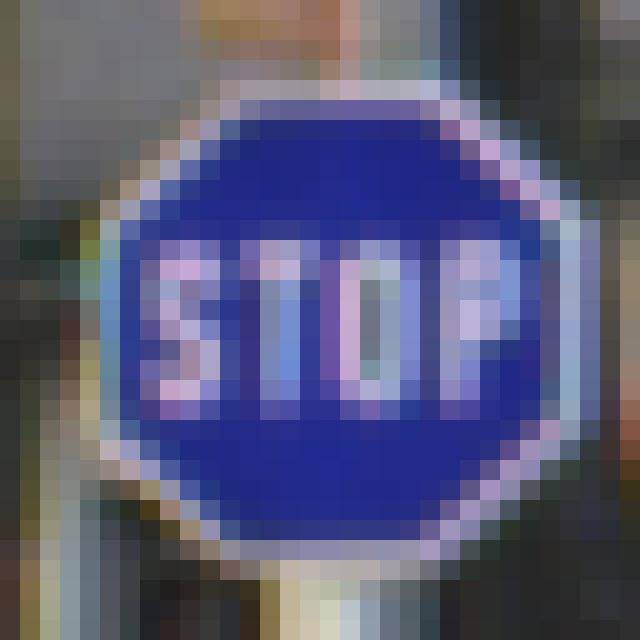STOP: (106, 108, 563, 548)
